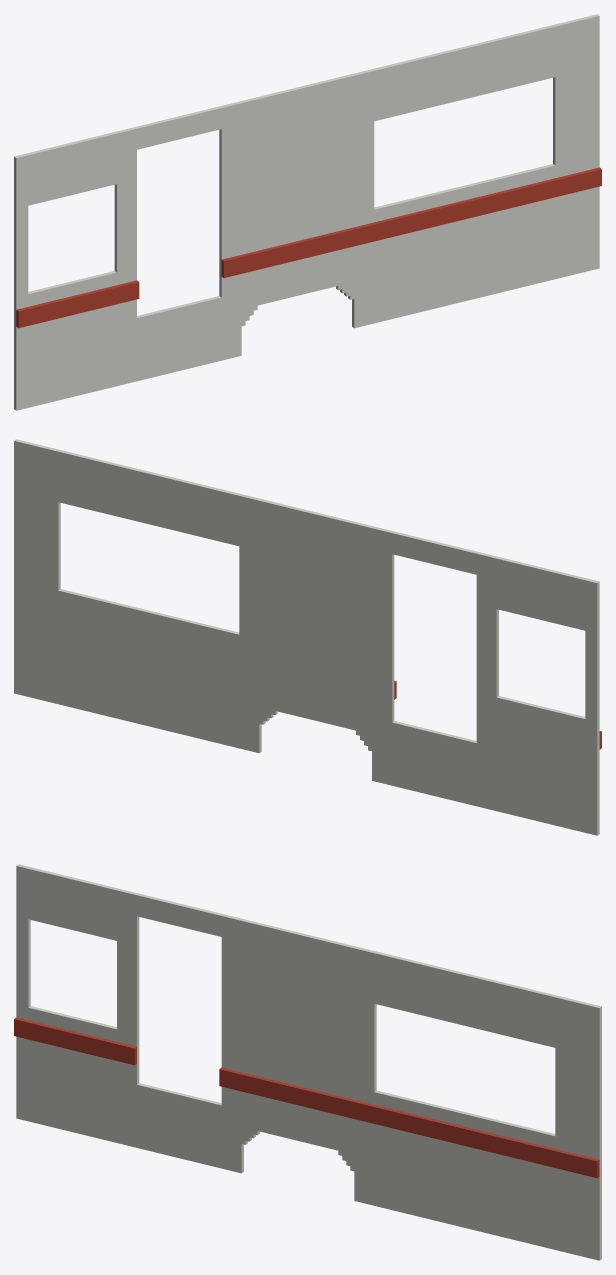
The model's file is caravan_wall_door.glb.
3 renders of one model, top to bottom at view 1: azimuth 30°, elevation 25°; view 2: azimuth 150°, elevation 25°; view 3: azimuth 330°, elevation 25°, orthographic.
Visible parts, largest first — view 1: body:compound; view 2: body:compound; view 3: body:compound.
Boxes of the visible parts, box(x1,y1,x2,y2) form: body:compound: box(14, 14, 601, 410); body:compound: box(14, 439, 601, 835); body:compound: box(14, 864, 601, 1260).
Bounding box in the file's own units: 4.53 × 1.88 × 0.0625.
